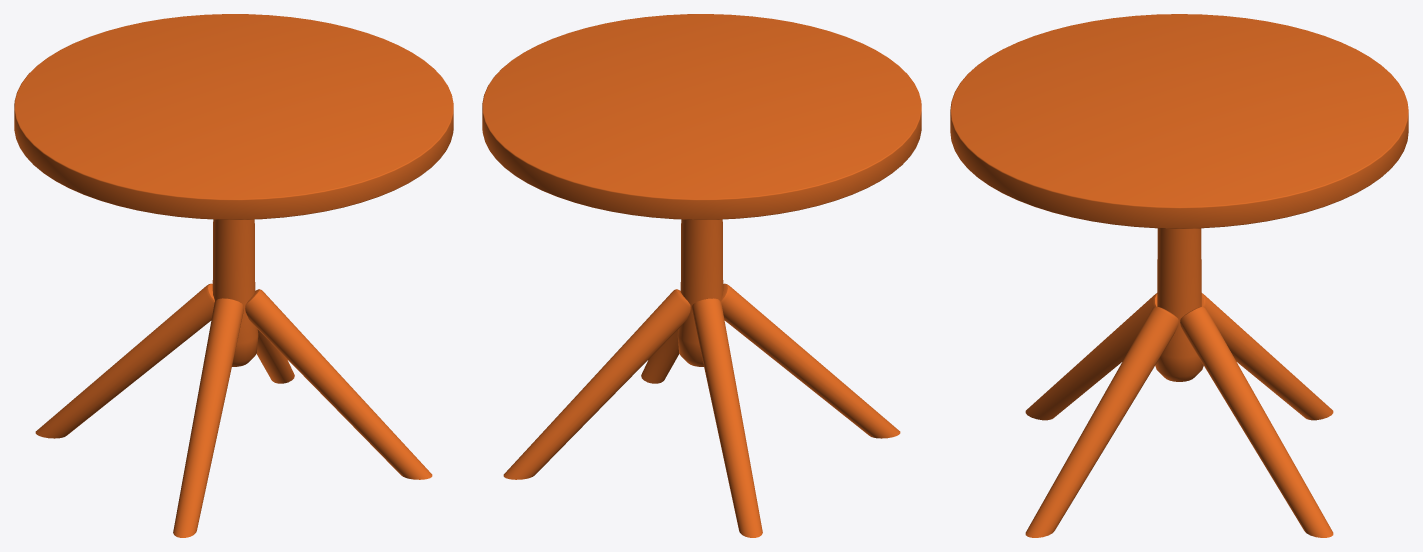
File: mesa_jantar_aranha_laranja.glb
3 views of the same model, side by side, from view 1: azimuth 30°, elevation 25°; view 2: azimuth 150°, elevation 25°; view 3: azimuth 270°, elevation 25° (orthographic). The views are drawn at different scales.
Parts seen in each view (by area): view 1: mesa_jantar_aranha_laranja; view 2: mesa_jantar_aranha_laranja; view 3: mesa_jantar_aranha_laranja.
Part boxes in pixels (x1=…): mesa_jantar_aranha_laranja: x1=14, y1=14, x2=453, y2=537; mesa_jantar_aranha_laranja: x1=482, y1=14, x2=921, y2=537; mesa_jantar_aranha_laranja: x1=950, y1=14, x2=1408, y2=537.
Size of the model in its own units: 0.86 by 0.75 by 0.86.
Materials: 1 (1 with a texture image).
